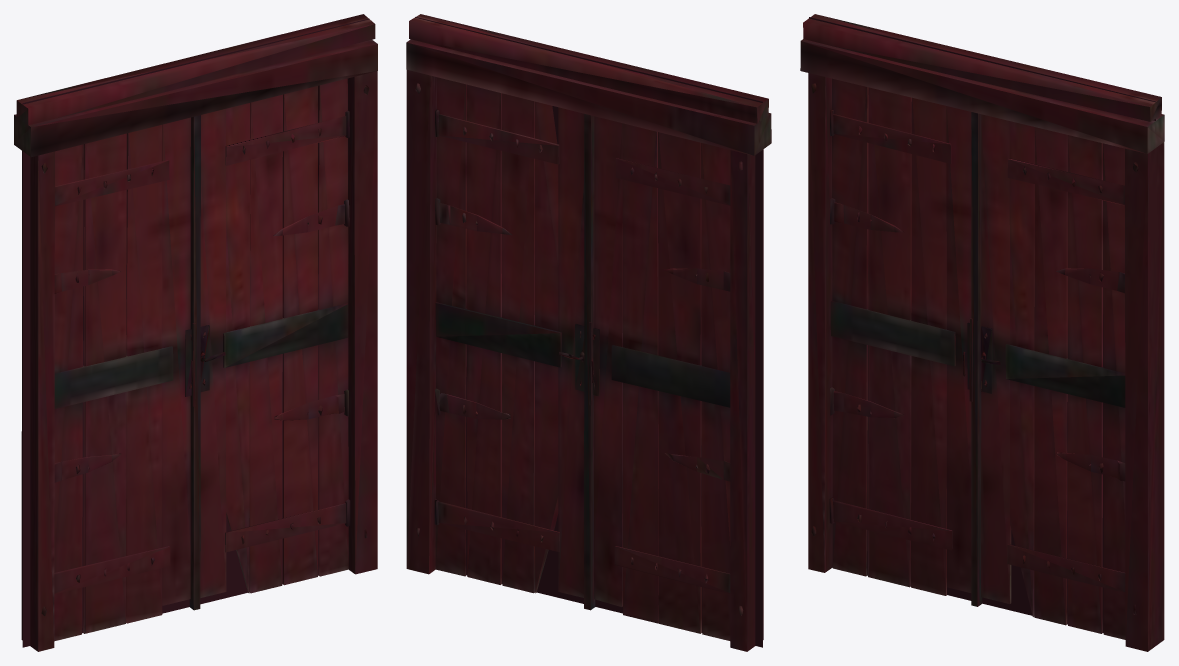
File: gate.lod1.glb
The picture shows the model from 3 angles, left to right: view 1: azimuth 30°, elevation 25°; view 2: azimuth 150°, elevation 25°; view 3: azimuth 330°, elevation 25°; orthographic projection.
Bounding box in the file's own units: 2 × 3 × 0.2.
1 material, 1 textured.
